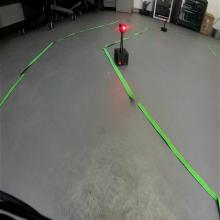red: (118, 22, 126, 33)
